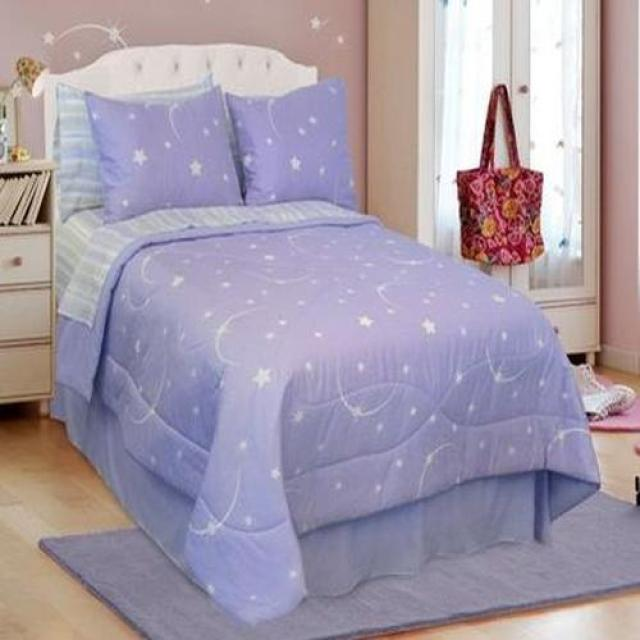bed: (45, 45, 602, 626)
